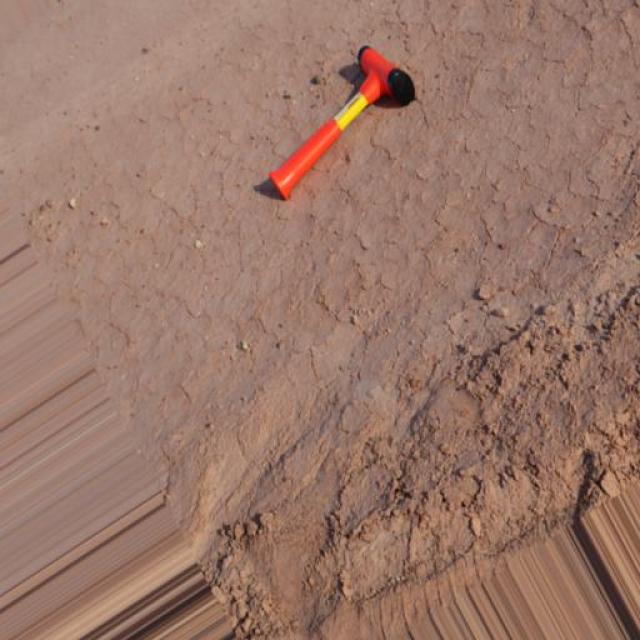mallet: (266, 42, 415, 202)
